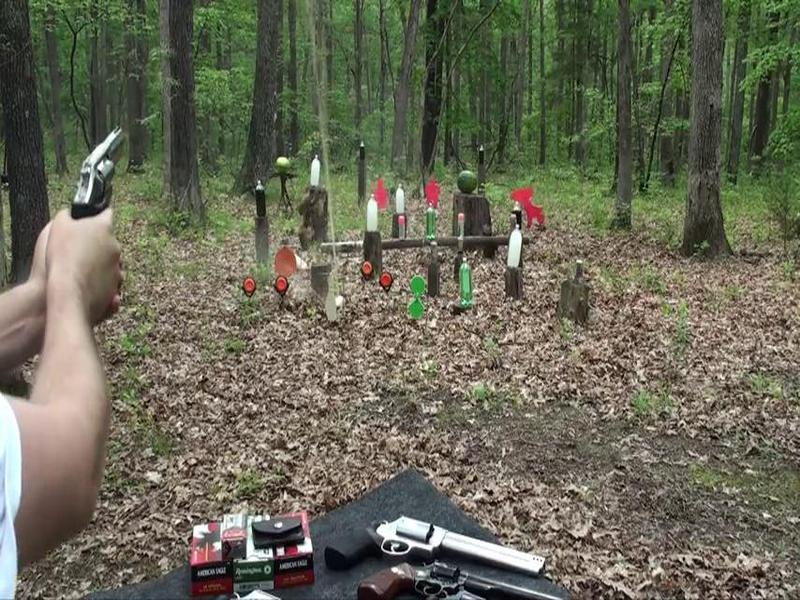Revolver: (57, 114, 140, 252)
